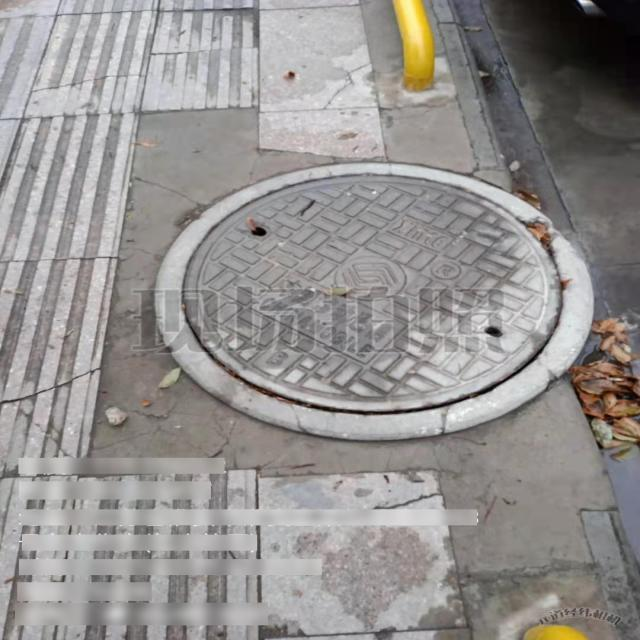Good: (156, 160, 594, 440)
